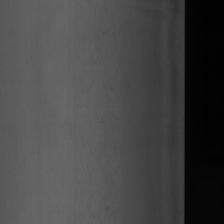silk_spot: (68, 78, 129, 198)
